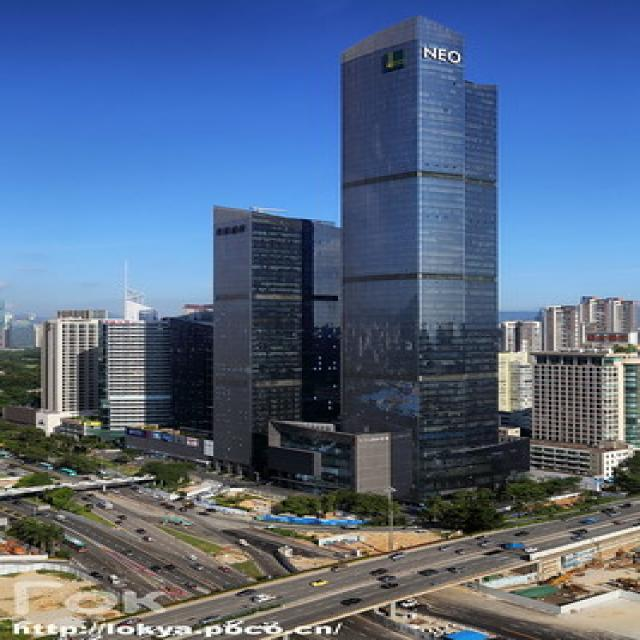Normal_building: (332, 11, 509, 499), (202, 201, 346, 479)
